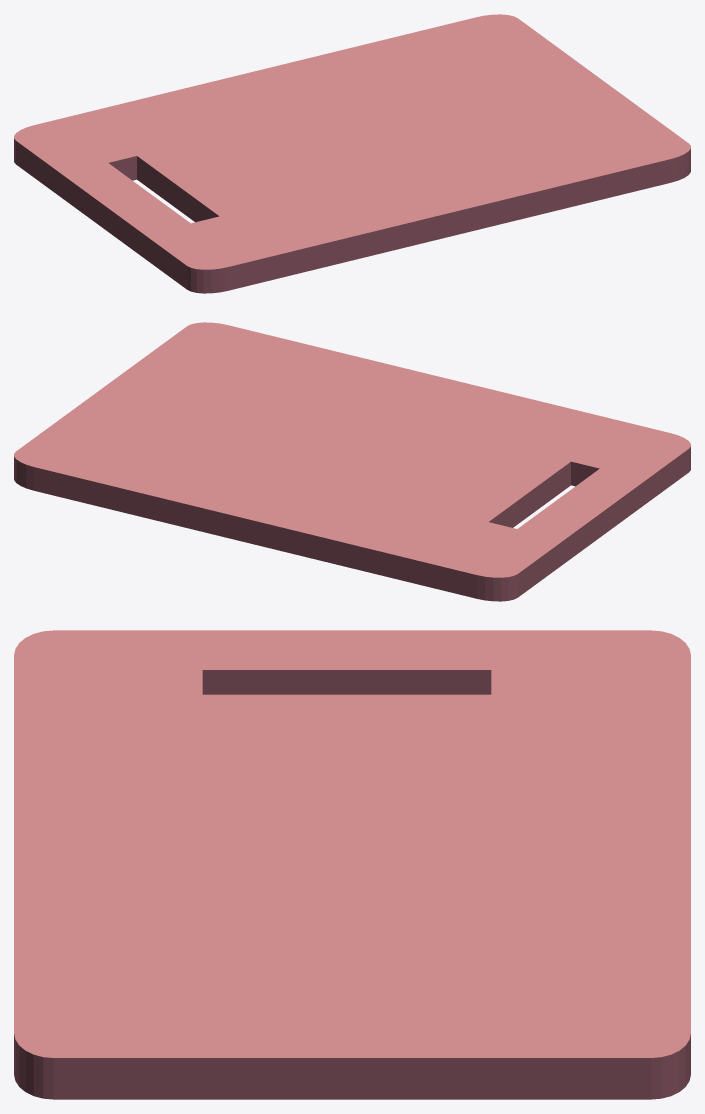
The model's file is Res01_Cutting_Plate_02.fbx.
The picture shows the model from 3 angles, top to bottom: view 1: azimuth 30°, elevation 25°; view 2: azimuth 150°, elevation 25°; view 3: azimuth 270°, elevation 25°; orthographic projection. The views are drawn at different scales.
Visible parts, largest first — view 1: Res01_Cutting_Plate_02; view 2: Res01_Cutting_Plate_02; view 3: Res01_Cutting_Plate_02.
Part boxes in pixels (x1,y1,x2,y2): Res01_Cutting_Plate_02: [14, 14, 690, 293]; Res01_Cutting_Plate_02: [14, 322, 690, 601]; Res01_Cutting_Plate_02: [14, 630, 690, 1099].
Size of the model in its own units: 101 by 4.56 by 67.4.
